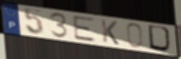0: (125, 22, 146, 50)
3: (49, 12, 69, 39)
5: (21, 7, 46, 36)
D: (147, 23, 175, 54)
E: (72, 15, 99, 44)
K: (100, 18, 121, 47)
